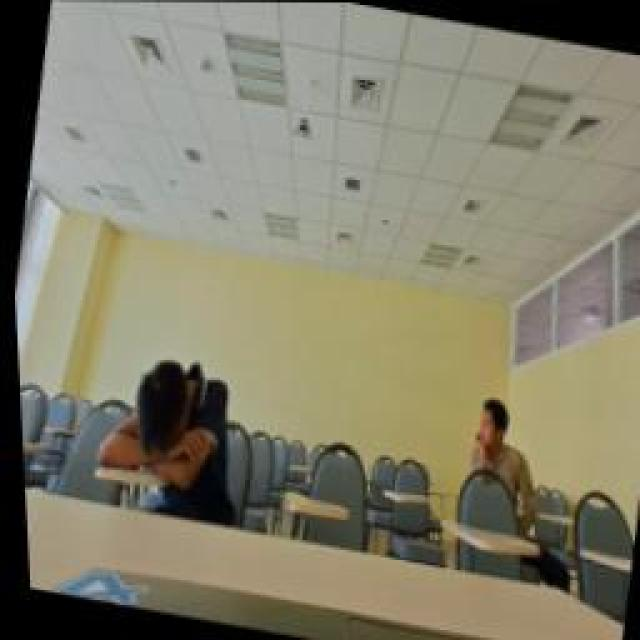sleep: (77, 338, 255, 530)
study: (442, 387, 550, 545)
